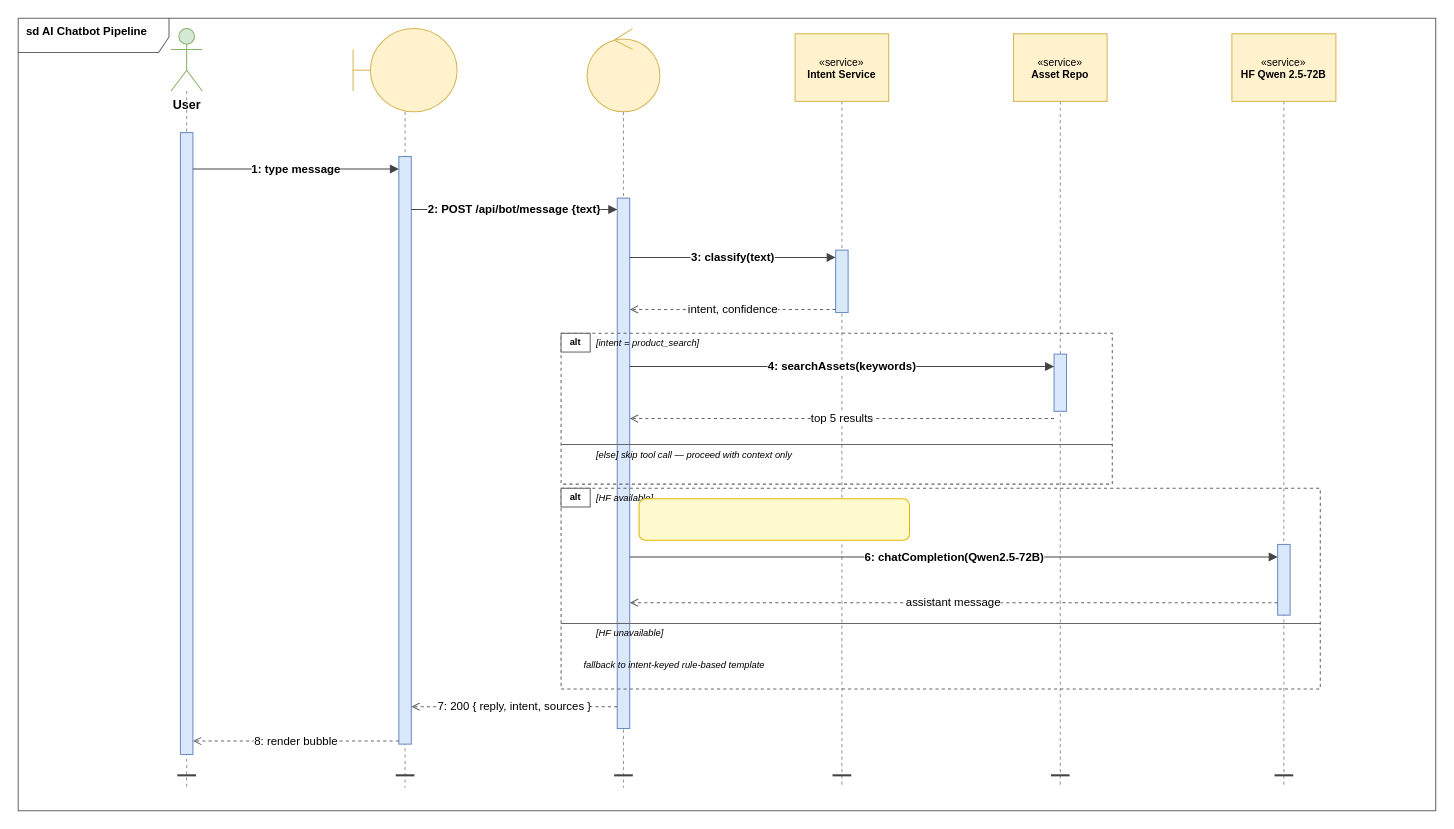
The diagram is 1454 pixels wide and 829 high, and some of its shapes have lost their labels. The centre of each missing label's shape, as x and y in pixels:
"/api/bot" belongs at point (623, 70).
"5: build LLM context system prompt + history + (optional) results" belongs at point (773, 519).
"«boundary» BotWidget" belongs at point (404, 70).
